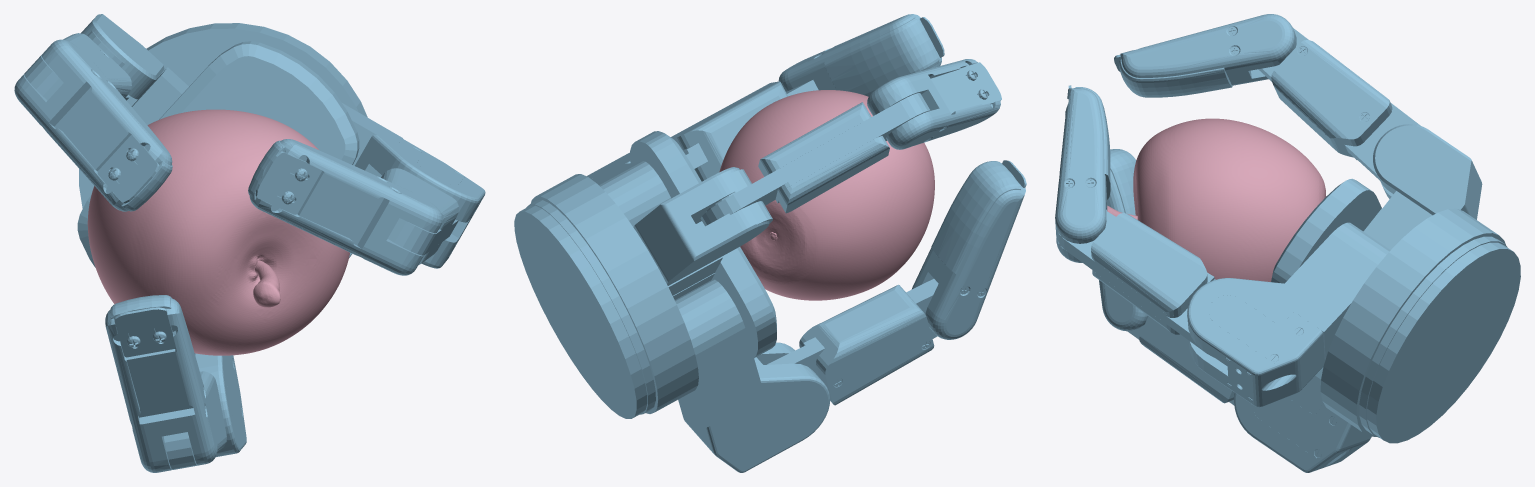
3 views of the same model, side by side, from view 1: azimuth 30°, elevation 25°; view 2: azimuth 150°, elevation 25°; view 3: azimuth 270°, elevation 25° (orthographic). The views are drawn at different scales.
Visible parts, largest first — view 1: world, apple.stl; view 2: world, apple.stl; view 3: world, apple.stl.
Part boxes in pixels (x1=…): world: x1=14, y1=14, x2=485, y2=472; apple.stl: x1=87, y1=109, x2=349, y2=355; world: x1=514, y1=14, x2=1026, y2=472; apple.stl: x1=719, y1=90, x2=934, y2=300; world: x1=1055, y1=14, x2=1520, y2=472; apple.stl: x1=1107, y1=118, x2=1326, y2=281.
Size of the model in its own units: 0.1614 by 0.1589 by 0.1726.
